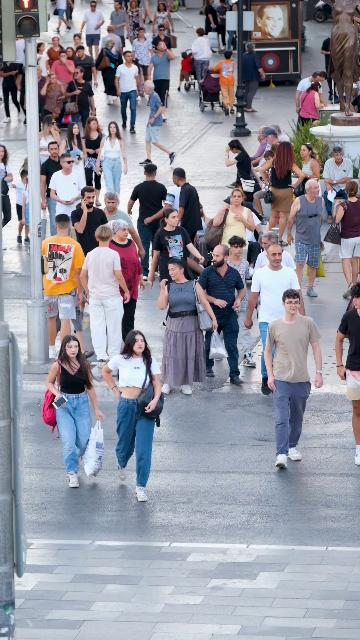person: (101, 329, 165, 502), (263, 289, 324, 469), (43, 335, 105, 488), (244, 244, 306, 396), (158, 258, 217, 394), (195, 243, 246, 385), (79, 224, 130, 366), (41, 214, 85, 359), (259, 141, 306, 247), (127, 164, 169, 281), (147, 208, 205, 290), (285, 179, 325, 297), (107, 219, 145, 342), (335, 281, 360, 465), (211, 187, 257, 264), (139, 80, 177, 166), (333, 180, 360, 299), (49, 153, 86, 239), (100, 191, 146, 260), (163, 167, 203, 245), (225, 139, 263, 220), (96, 121, 128, 208), (71, 186, 108, 259), (58, 66, 96, 134), (40, 141, 66, 238), (322, 145, 353, 225), (147, 40, 176, 122), (225, 236, 254, 314), (115, 50, 142, 133), (81, 118, 106, 206), (253, 230, 297, 273), (251, 127, 280, 191), (59, 121, 87, 187), (240, 42, 266, 113), (96, 39, 123, 106), (131, 27, 155, 99), (253, 150, 276, 225), (208, 51, 235, 114), (9, 170, 31, 246), (78, 1, 104, 62), (191, 27, 213, 95), (0, 61, 24, 123), (295, 71, 328, 115), (297, 82, 326, 130), (297, 143, 321, 197), (321, 36, 340, 104), (0, 145, 15, 229), (70, 45, 98, 89), (39, 115, 62, 166), (109, 1, 129, 57), (213, 0, 232, 52), (204, 0, 222, 53), (195, 204, 212, 260), (97, 24, 123, 57), (51, 52, 75, 86), (127, 0, 144, 46), (250, 126, 268, 166), (16, 61, 27, 125), (35, 42, 53, 80), (178, 50, 193, 91), (46, 36, 64, 70), (151, 23, 172, 52), (226, 0, 238, 50), (38, 65, 47, 118), (139, 0, 152, 26), (270, 124, 284, 141), (66, 47, 77, 66), (199, 0, 206, 14), (181, 0, 187, 10)
